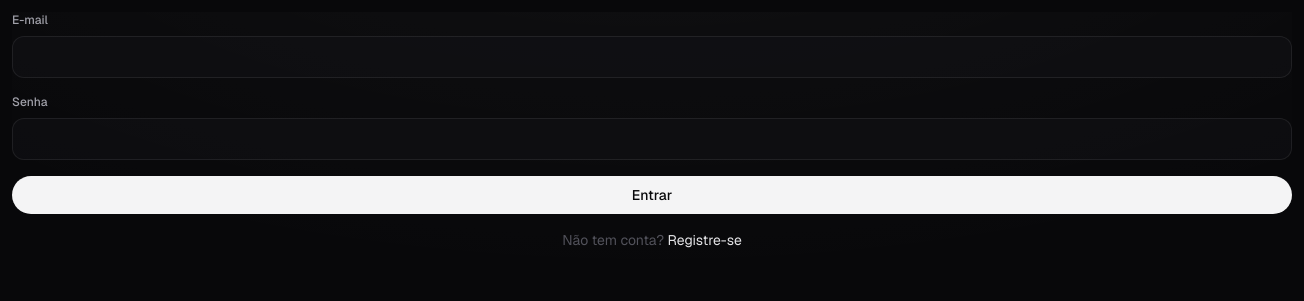
Test: LoginForm › exibe erro para credenciais inválidas
In the field labelled "E-mail": point(652, 57) [12,36,1292,78], type "teste@email.com"
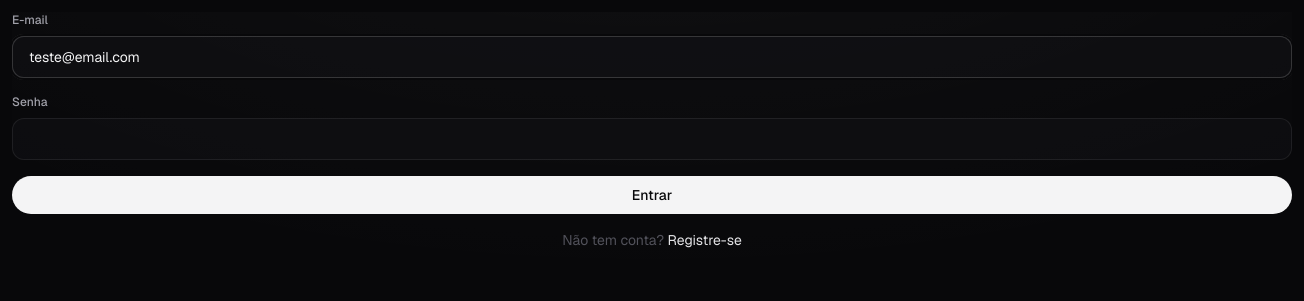
In the password field labelled "Senha": point(652, 139) [12,118,1292,160], type "123456"
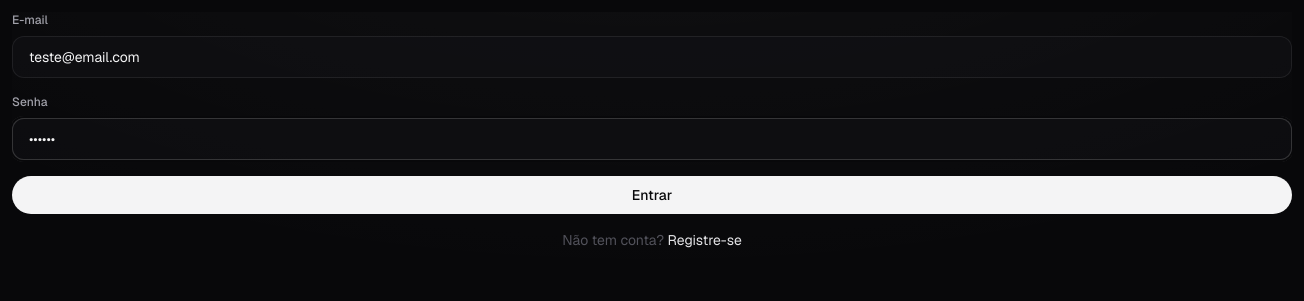
Click the button "Entrar": point(652, 195) [12,176,1292,214]
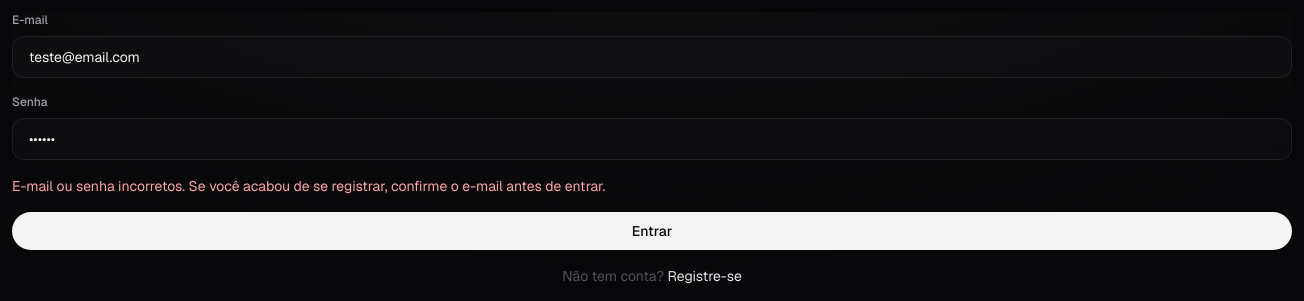
Check: the message shows "E-mail ou senha incorretos", box [12,177,605,195]
